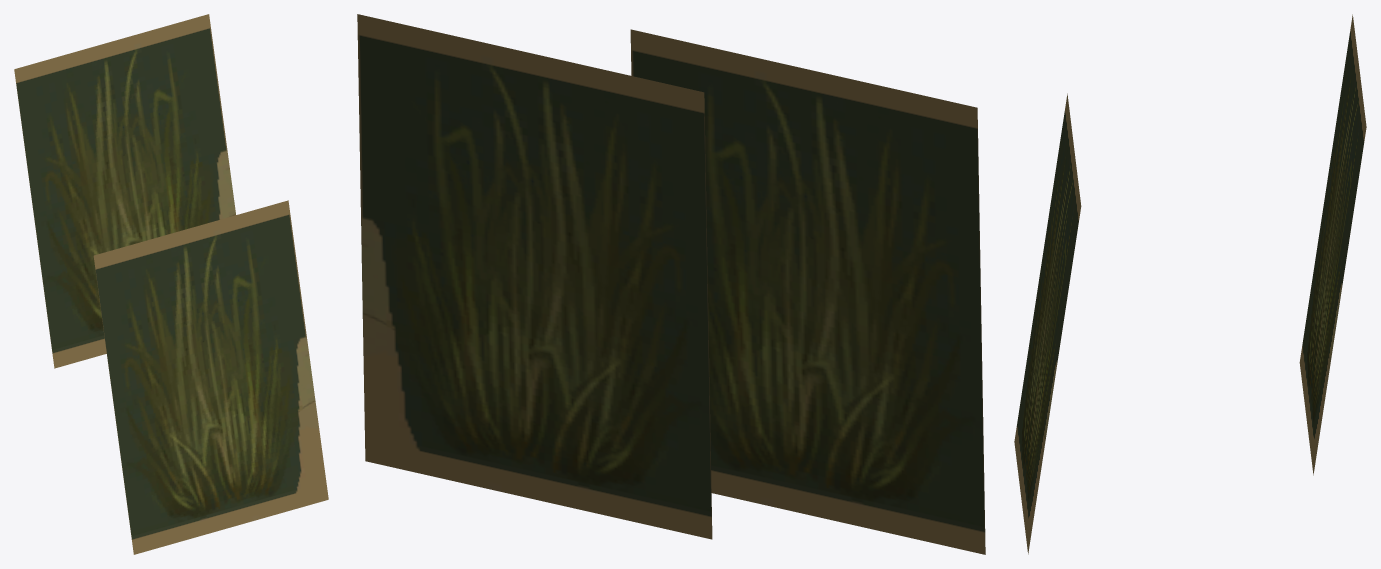
Rendered from object_grass_polys06.fbx.
3 renders of one model, left to right at view 1: azimuth 30°, elevation 25°; view 2: azimuth 150°, elevation 25°; view 3: azimuth 270°, elevation 25°, orthographic. The views are drawn at different scales.
Parts seen in each view (by area): view 1: obj0.063; view 2: obj0.063; view 3: obj0.063.
Part boxes in pixels (x1,y1,x2,y2): obj0.063: (14, 14, 328, 554); obj0.063: (357, 14, 985, 554); obj0.063: (1014, 14, 1366, 554).
Bounding box in the file's own units: 2.26 × 3.13 × 2.25.
